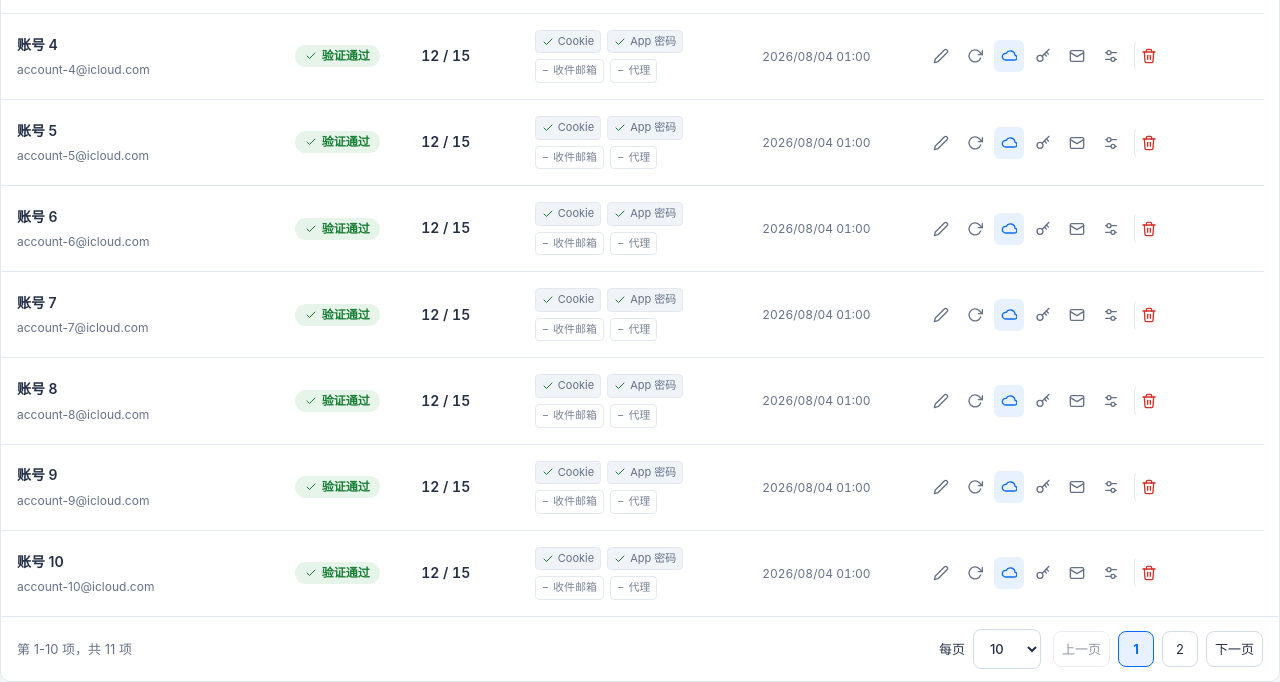
Test: AccountsPage › 账号列表分页可前后切换并显示准确范围
(page scrolled)
Expected: the text "第 1-10 项，共 11 项" is shown, [17,639,132,659]
Expected: the text "账号 11" is not shown
Click the button "下一页" at (1234, 649), box [1206,631,1263,667]
(page scrolled)
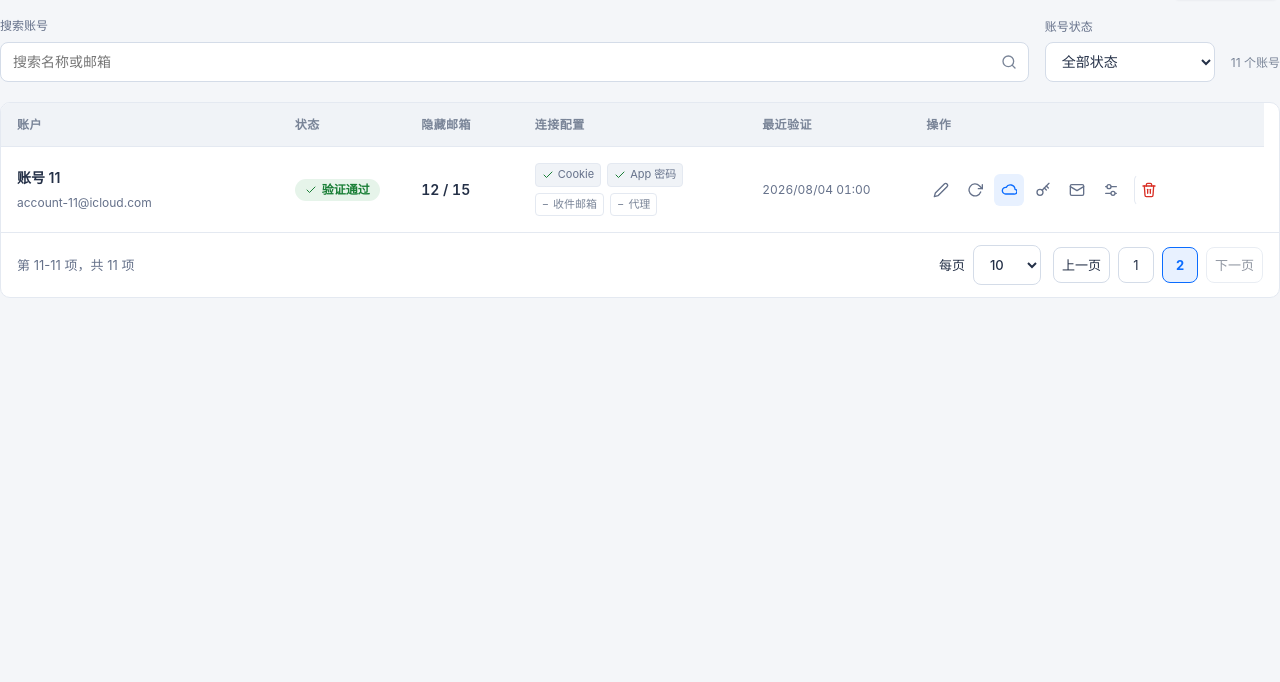
Expected: the text "账号 11" is shown, [17,169,60,186]
Expected: the text "第 11-11 项，共 11 项" is shown, [17,255,134,276]
